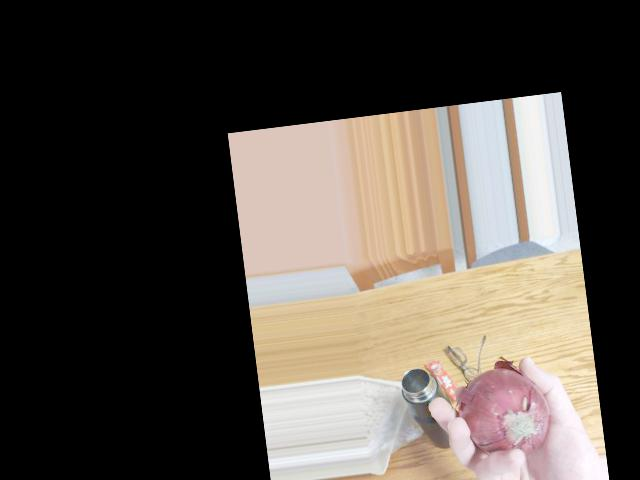onion: (456, 371, 555, 462)
